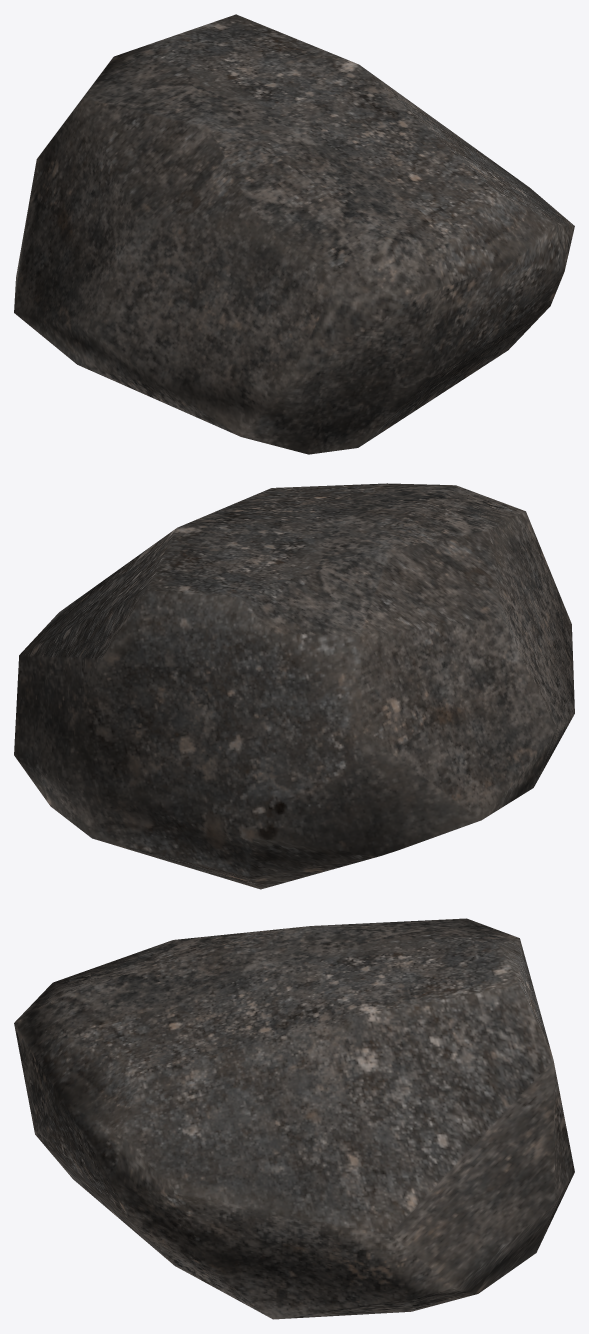
File: SM_SmallRocks_3.fbx
3 renders of one model, top to bottom at view 1: azimuth 30°, elevation 25°; view 2: azimuth 150°, elevation 25°; view 3: azimuth 270°, elevation 25°, orthographic. The views are drawn at different scales.
Visible parts, largest first — view 1: SM_SmallRocks_3_LOD0; view 2: SM_SmallRocks_3_LOD0; view 3: SM_SmallRocks_3_LOD0.
Boxes of the visible parts, <box> form: SM_SmallRocks_3_LOD0: <box>14,14,574,454</box>; SM_SmallRocks_3_LOD0: <box>14,483,574,889</box>; SM_SmallRocks_3_LOD0: <box>14,918,574,1319</box>.
Size of the model in its own units: 24.82 by 26.11 by 16.38.
